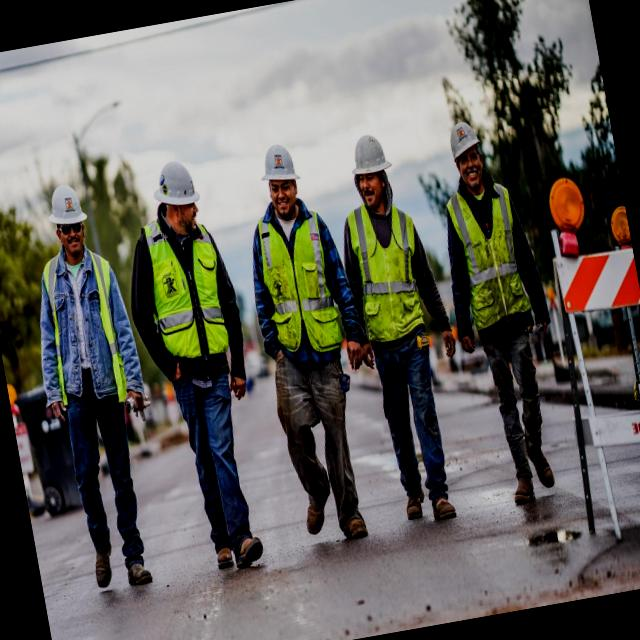helmet: (342, 128, 401, 196), (148, 164, 206, 229), (436, 112, 489, 176), (254, 144, 304, 202), (43, 185, 90, 241)
vest: (38, 249, 136, 431), (133, 225, 239, 382), (446, 172, 536, 347), (253, 194, 342, 360), (339, 190, 434, 344)
